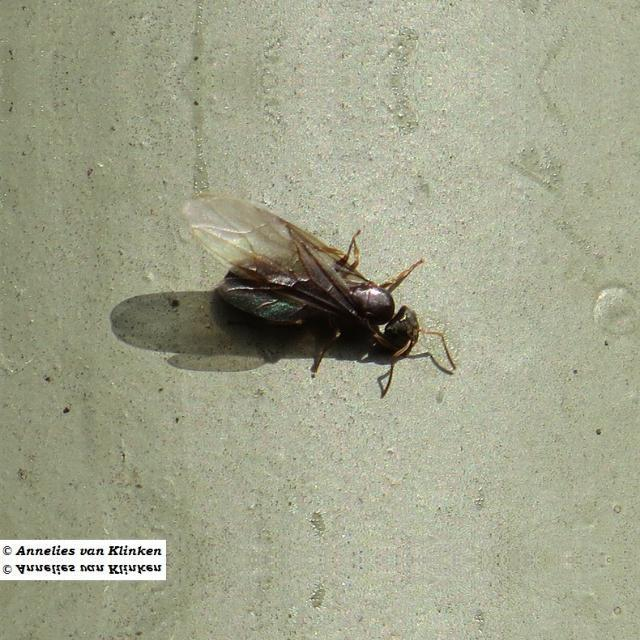Lasius: (195, 190, 460, 386)
